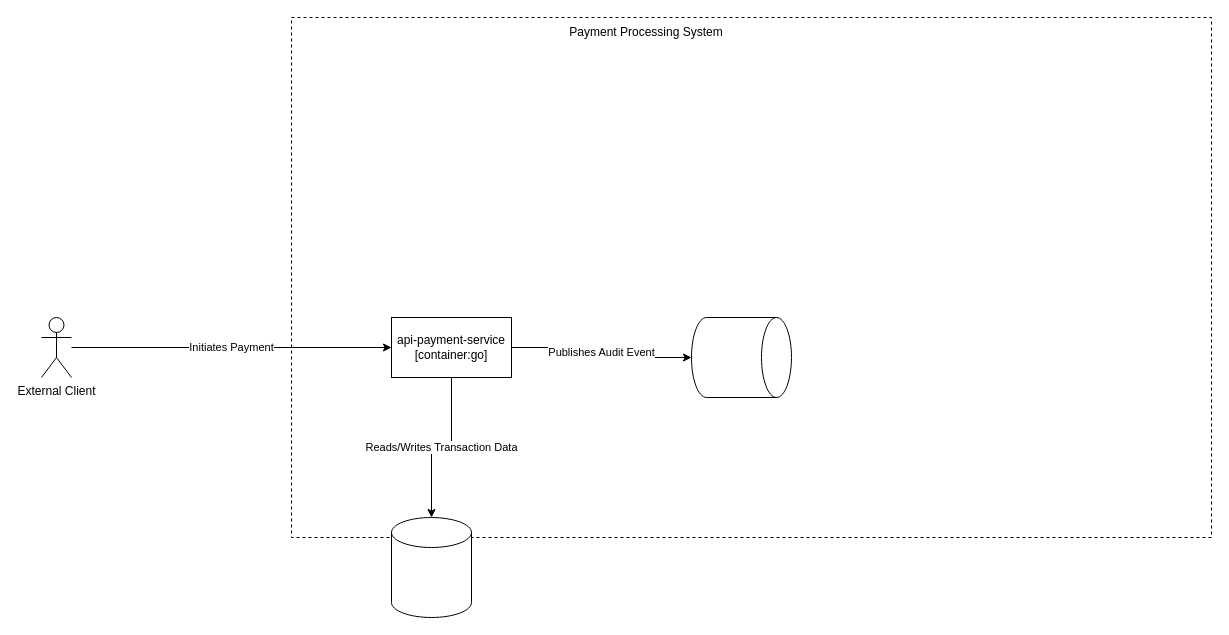
Image size: 1229x635. Some labels were removed from this diagram. The centre of each missing label's shape, as x and y in pixels:
Audit Log Queue [Kafka]: point (741, 357)
Transaction System DB [Postgresql]: point (431, 567)
